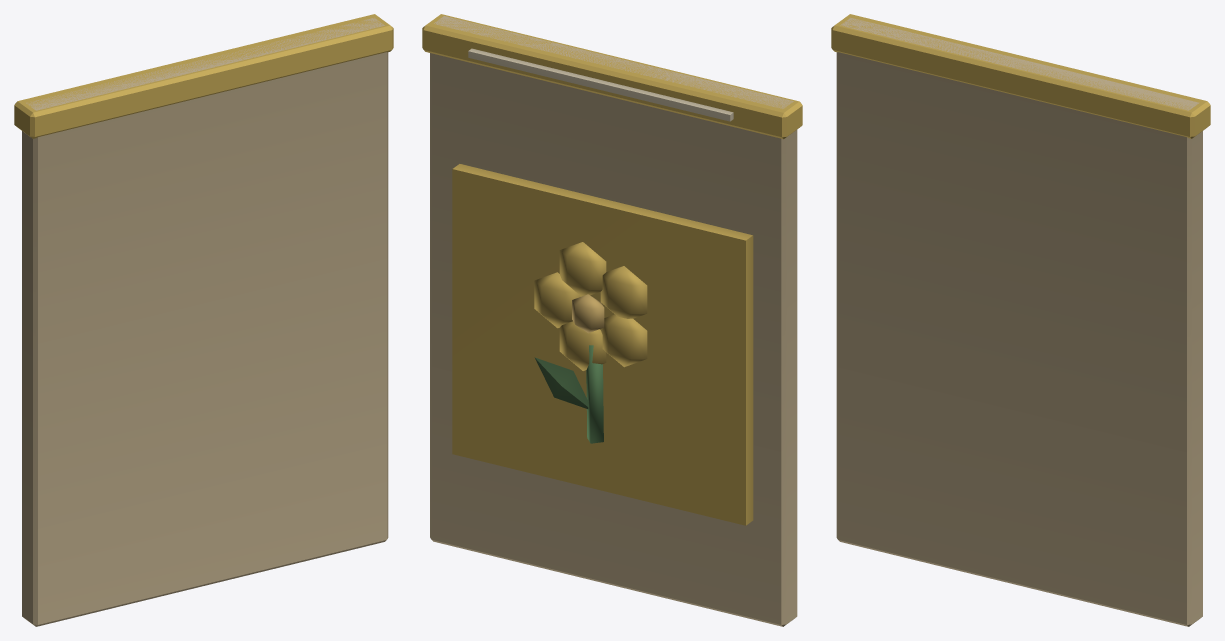
File: seed_flower_yellow_low.glb
3 renders of one model, left to right at view 1: azimuth 30°, elevation 25°; view 2: azimuth 150°, elevation 25°; view 3: azimuth 330°, elevation 25°, orthographic.
Bounding box in the file's own units: 0.174 × 0.236 × 0.0318.
